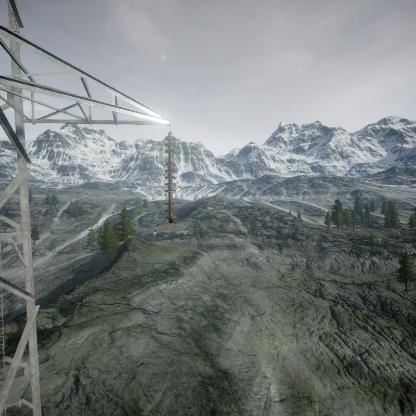insulator: (164, 131, 177, 223)
